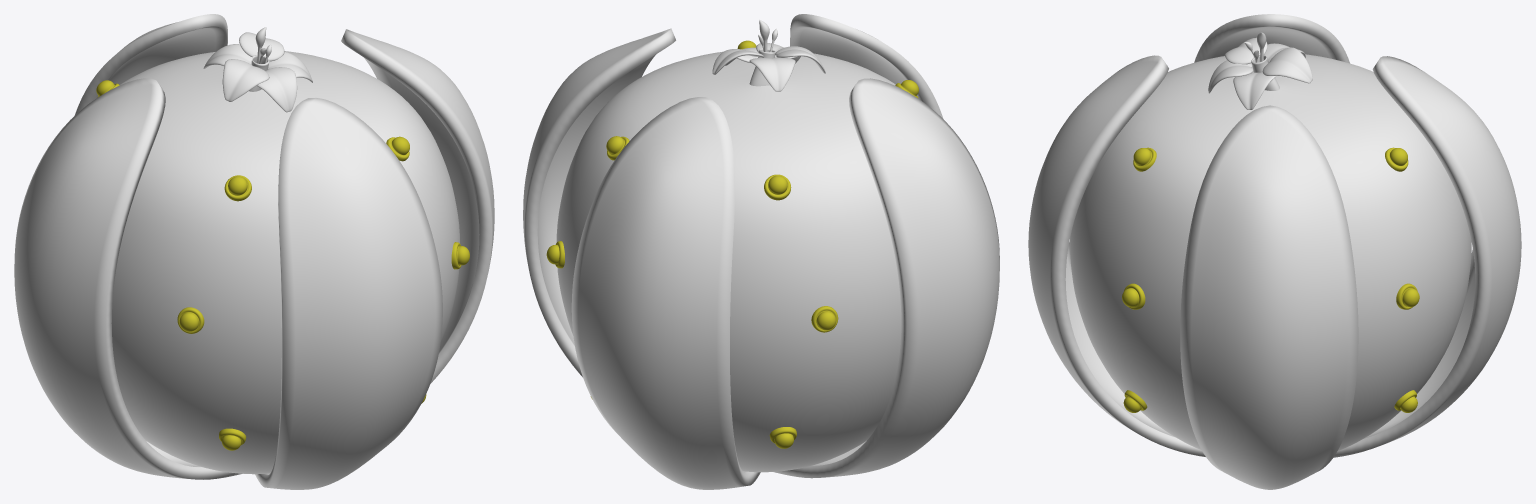
The model's file is Benih Common.fbx.
The picture shows the model from 3 angles, left to right: view 1: azimuth 30°, elevation 25°; view 2: azimuth 150°, elevation 25°; view 3: azimuth 270°, elevation 25°; orthographic projection. The views are drawn at different scales.
Visible parts, largest first — view 1: Sphere.001, Sphere, totol.003, bunga.003, bunga.002, bunga, bunga.004, bunga.001; view 2: Sphere.001, Sphere, totol.003, bunga.004; view 3: Sphere.001, Sphere, totol.003, bunga, bunga.001, bunga.002, bunga.003.
Part boxes in pixels (box(x1,y1,x2,y2)): Sphere.001: box(14, 14, 494, 489); Sphere: box(111, 51, 459, 474); totol.003: box(96, 80, 469, 450); bunga.003: box(222, 59, 269, 101); bunga.002: box(257, 67, 297, 112); bunga: box(239, 32, 284, 61); bunga.004: box(203, 44, 251, 68); bunga.001: box(268, 51, 312, 82); Sphere.001: box(523, 14, 999, 489); Sphere: box(556, 51, 901, 472); totol.003: box(546, 40, 918, 448); bunga.004: box(749, 57, 795, 91); Sphere.001: box(1028, 14, 1521, 489); Sphere: box(1070, 54, 1471, 451); totol.003: box(1122, 147, 1419, 412); bunga: box(1262, 47, 1312, 83); bunga.001: box(1233, 72, 1276, 109); bunga.002: box(1208, 60, 1253, 93); bunga.003: box(1224, 37, 1267, 64).
Bounding box in the file's own units: 68.35 × 64.22 × 66.4.
